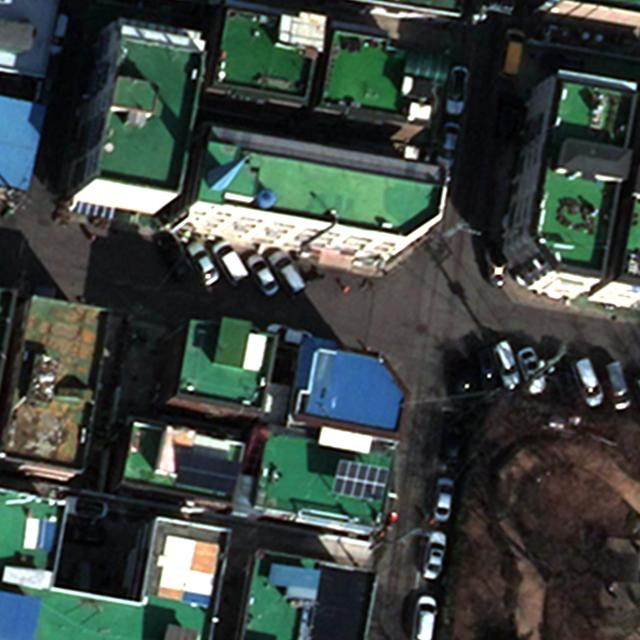panel: (328, 457, 393, 501)
